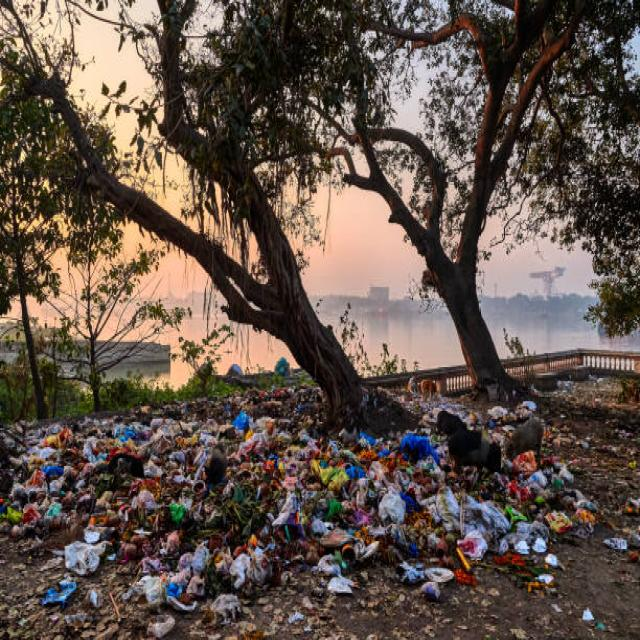trash: (37, 405, 560, 602)
